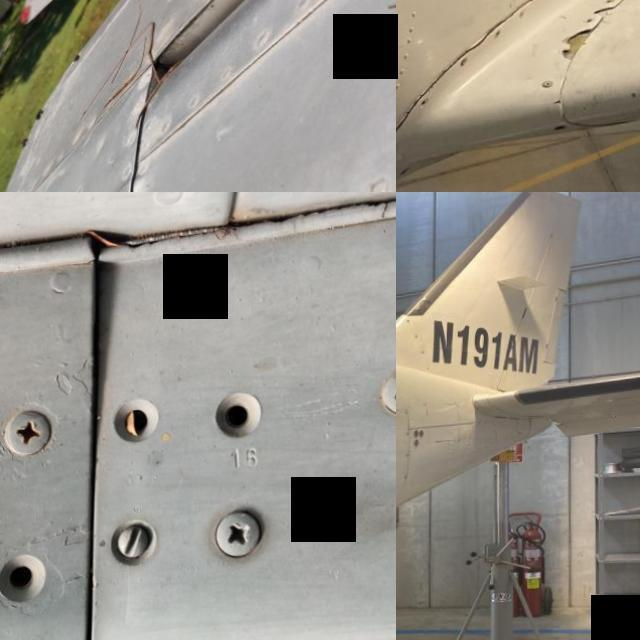Crack: (423, 49, 460, 118), (562, 33, 595, 69), (454, 36, 496, 60), (396, 113, 411, 163), (592, 12, 624, 30), (550, 102, 570, 120)
Missing_Fastener: (188, 376, 290, 478), (0, 523, 82, 637), (552, 129, 572, 139), (422, 103, 431, 112), (496, 37, 504, 43)
